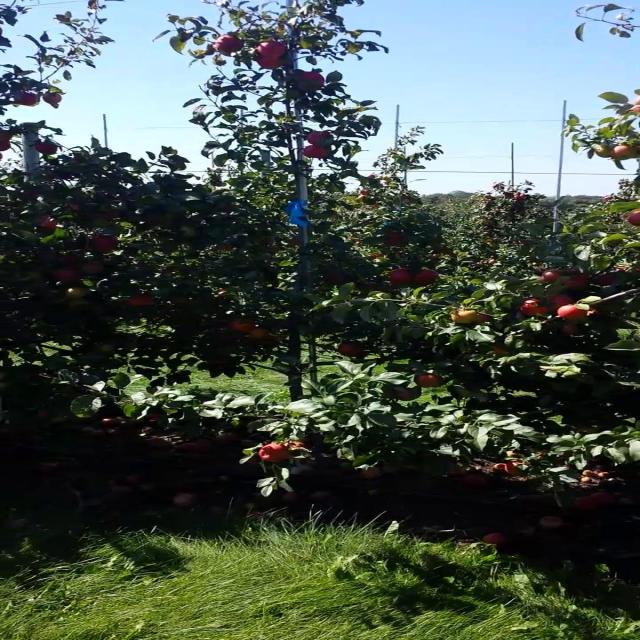apple: (262, 444, 292, 464), (298, 72, 327, 91), (255, 40, 288, 56), (518, 300, 549, 316), (92, 236, 121, 252), (220, 36, 242, 54), (255, 56, 284, 69), (56, 268, 82, 282), (305, 132, 334, 144), (127, 296, 155, 308), (340, 344, 364, 357), (419, 272, 441, 286), (326, 272, 348, 286), (419, 376, 443, 388), (561, 308, 585, 320), (390, 272, 412, 285), (305, 148, 327, 160), (454, 312, 476, 324), (234, 320, 256, 332), (554, 296, 576, 308), (568, 276, 590, 288), (20, 96, 43, 107), (383, 236, 404, 248), (596, 276, 617, 288), (540, 272, 562, 283), (70, 288, 92, 299), (561, 324, 581, 336), (390, 232, 405, 248), (42, 216, 60, 229), (618, 148, 636, 160), (625, 212, 639, 227), (35, 144, 57, 153), (248, 328, 270, 337), (596, 148, 612, 160), (42, 96, 64, 104), (84, 264, 103, 273), (63, 256, 80, 266), (63, 256, 80, 266), (99, 344, 114, 355), (262, 336, 279, 345), (184, 228, 199, 238), (397, 392, 414, 400), (476, 316, 491, 324), (220, 244, 235, 252), (70, 204, 84, 212), (291, 444, 306, 451), (497, 348, 507, 356), (589, 308, 599, 316), (42, 412, 50, 420), (6, 144, 14, 148)
